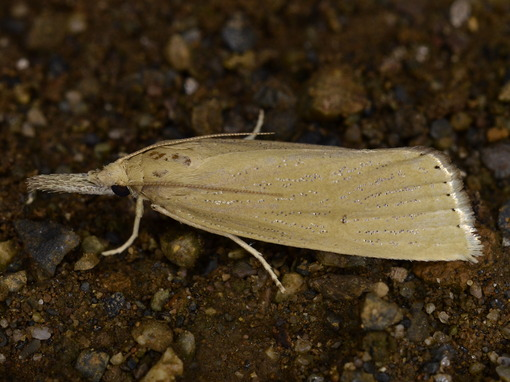Crambidae: (29, 112, 484, 267)
